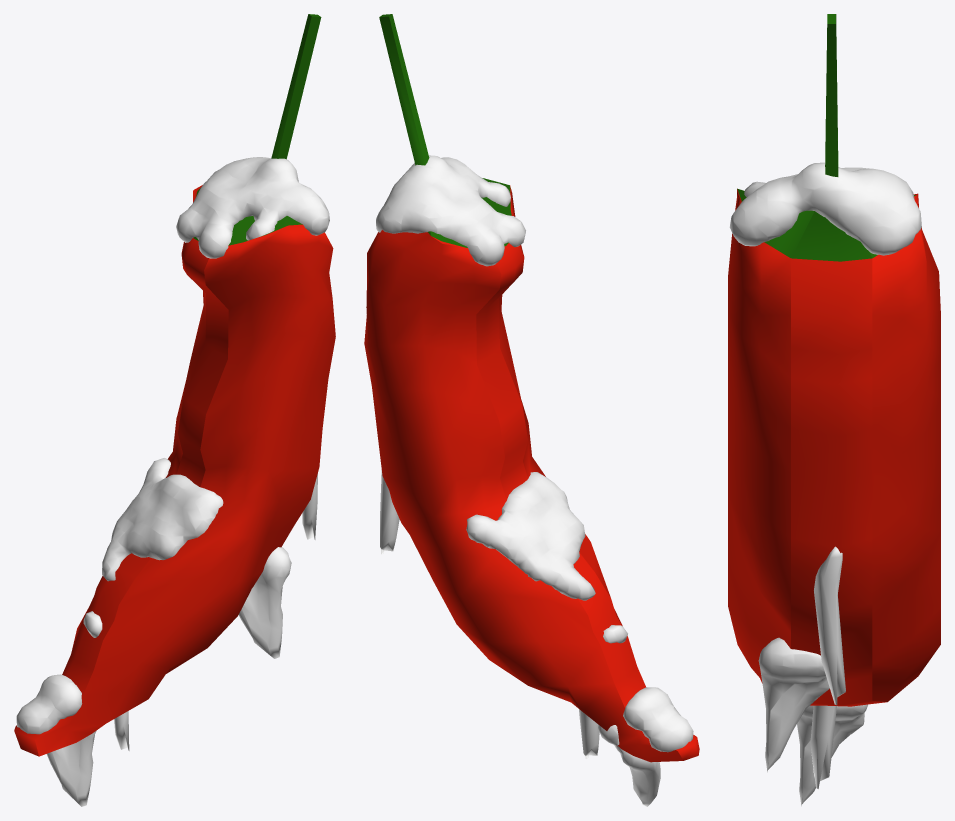
The model's file is ChiliFile_02.glb.
3 renders of one model, left to right at view 1: azimuth 30°, elevation 25°; view 2: azimuth 150°, elevation 25°; view 3: azimuth 270°, elevation 25°, orthographic. The views are drawn at different scales.
Parts seen in each view (by area): view 1: uploads_files_3061693_obj+chilly; view 2: uploads_files_3061693_obj+chilly; view 3: uploads_files_3061693_obj+chilly.
Part boxes in pixels (left/top/right/bottom): uploads_files_3061693_obj+chilly: left=14, top=14, right=335, bottom=806; uploads_files_3061693_obj+chilly: left=364, top=14, right=699, bottom=806; uploads_files_3061693_obj+chilly: left=728, top=14, right=940, bottom=806.
Bounding box in the file's own units: 2.01 × 4.48 × 0.9168.
